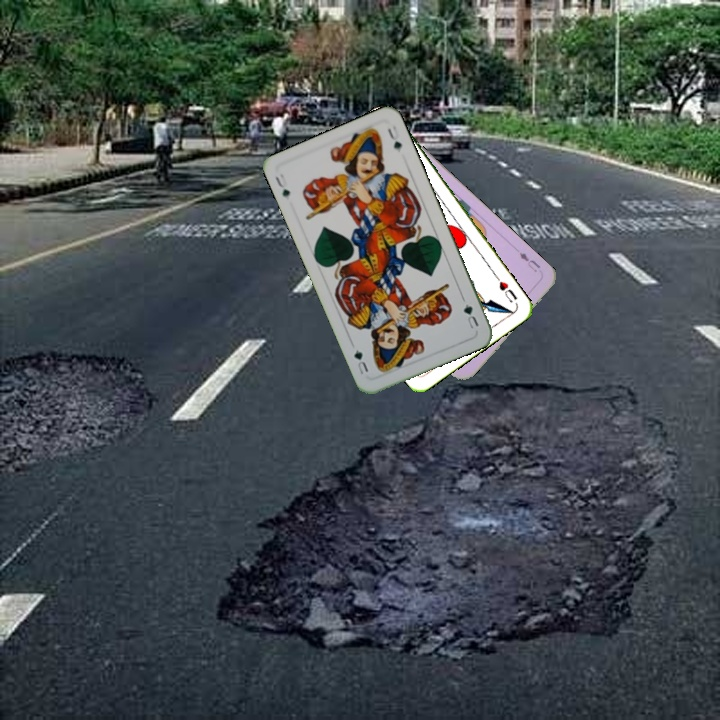EU: (515, 248, 543, 275)
GU: (271, 169, 293, 201), (459, 300, 481, 331)
HU: (491, 271, 520, 305)
